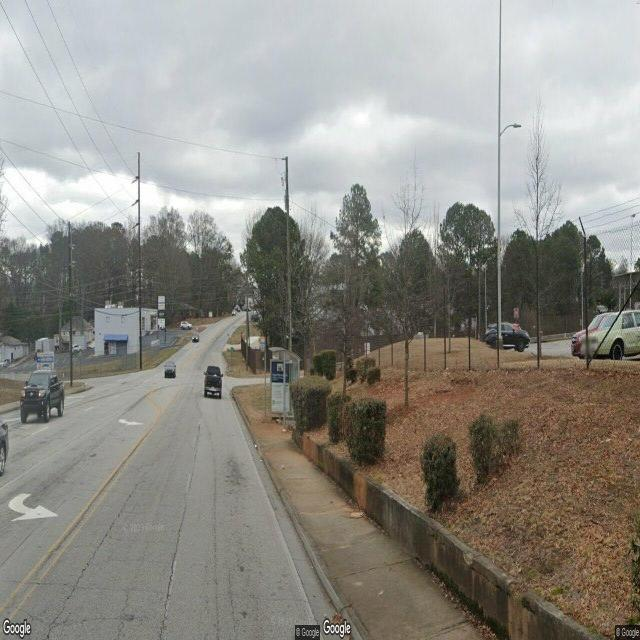seating: (286, 409, 294, 425)
shelter: (268, 346, 302, 434)
